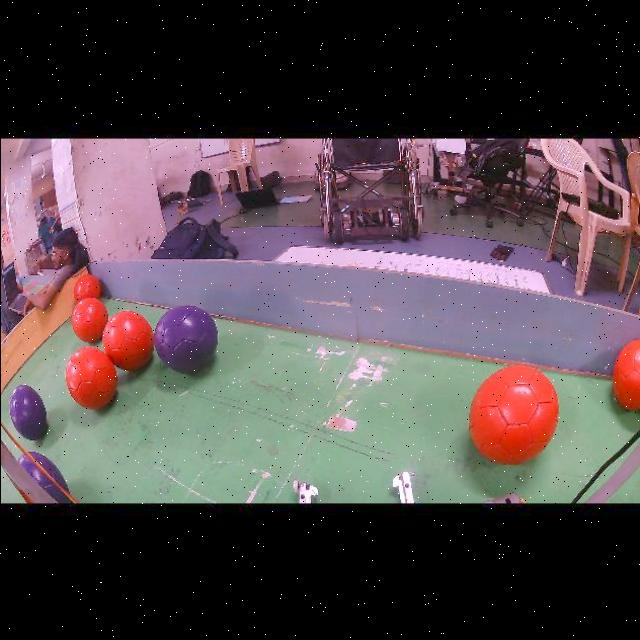P: (153, 305, 216, 372), (9, 383, 47, 439)
R: (468, 364, 558, 463), (65, 345, 116, 409), (101, 310, 153, 369), (611, 339, 640, 409), (71, 296, 108, 342), (72, 273, 100, 302)
